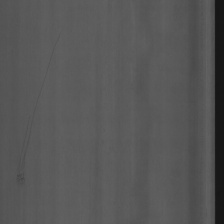water_spot: (11, 97, 42, 192)
